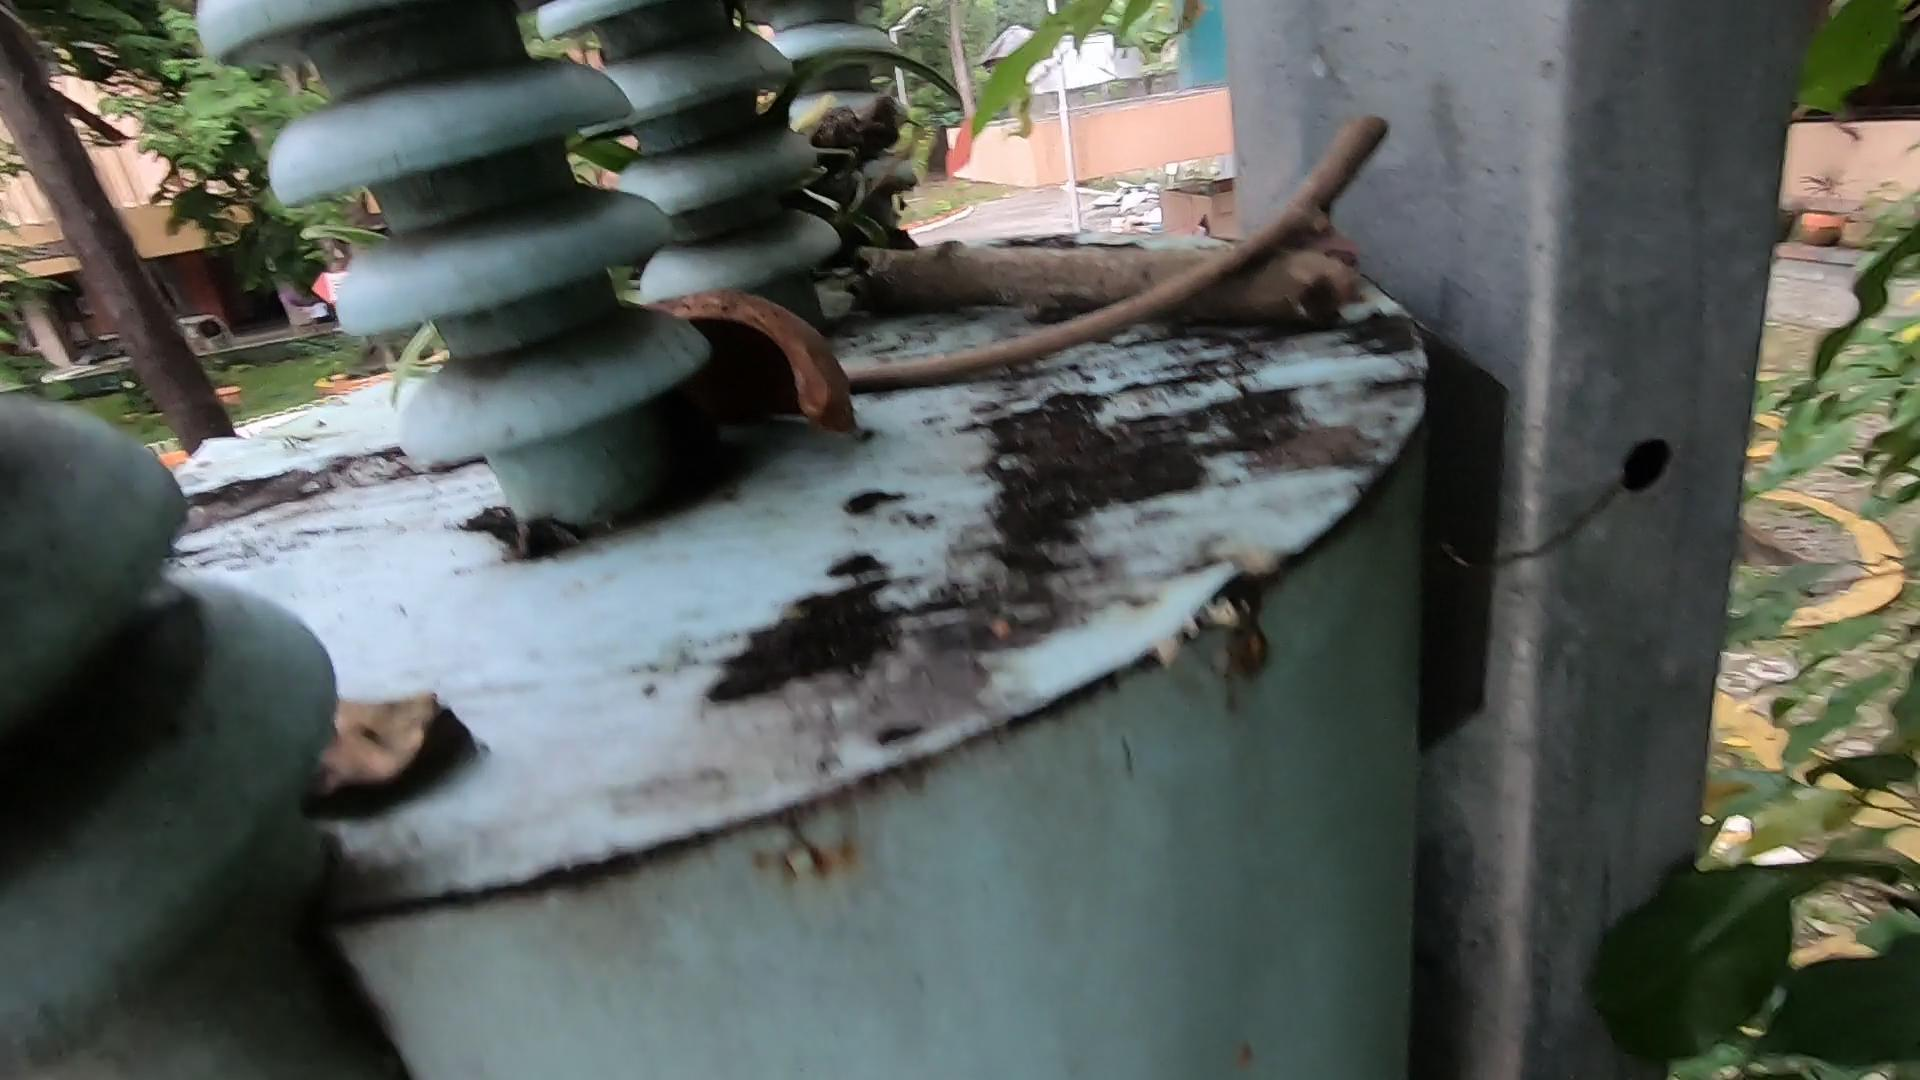branch with leaves: (729, 107, 1367, 334)
leaf: (313, 618, 506, 884)
mahogany fruit: (713, 266, 996, 541)
tree branch: (781, 107, 1462, 398)
